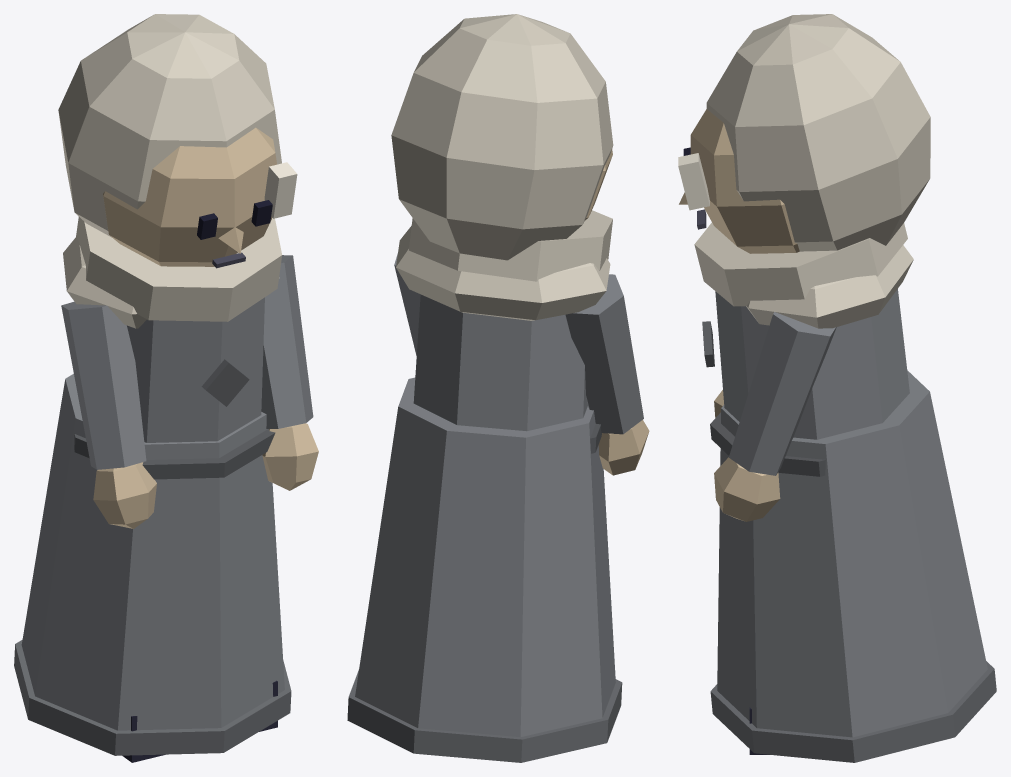
Rendered from oriel.glb.
3 renders of one model, left to right at view 1: azimuth 30°, elevation 25°; view 2: azimuth 150°, elevation 25°; view 3: azimuth 270°, elevation 25°, orthographic.
Visible parts, largest first — view 1: Torso, Head, ArmR, ArmL; view 2: Torso, Head, ArmR, ArmL; view 3: Torso, Head, ArmL.
Boxes of the visible parts, x1,y1,x2,y2 form: Torso: [14, 236, 291, 755]; Head: [58, 14, 297, 321]; ArmR: [61, 301, 156, 528]; ArmL: [261, 255, 318, 490]; Torso: [347, 226, 622, 762]; Head: [391, 14, 613, 281]; ArmR: [565, 274, 649, 475]; ArmL: [394, 253, 420, 355]; Torso: [702, 245, 996, 762]; Head: [678, 14, 930, 306]; ArmL: [714, 312, 836, 521].
Bounding box in the file's own units: 0.714 × 1.92 × 0.7978.
